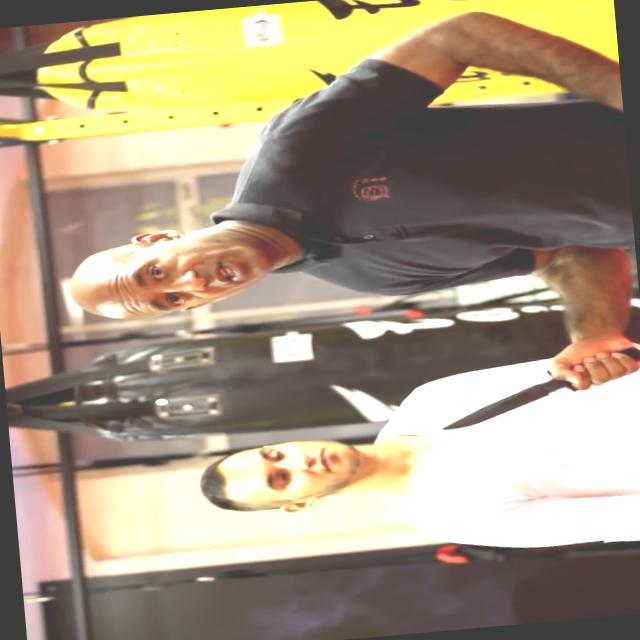knife: (427, 338, 639, 435)
